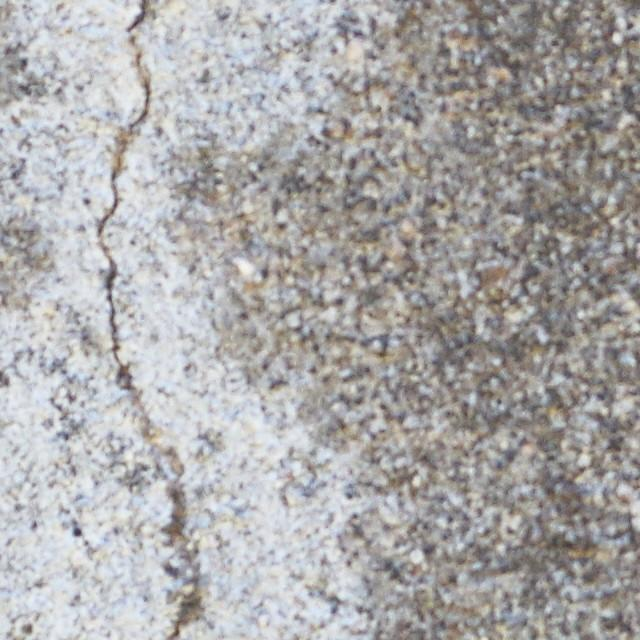curved crack: (96, 0, 202, 639)
